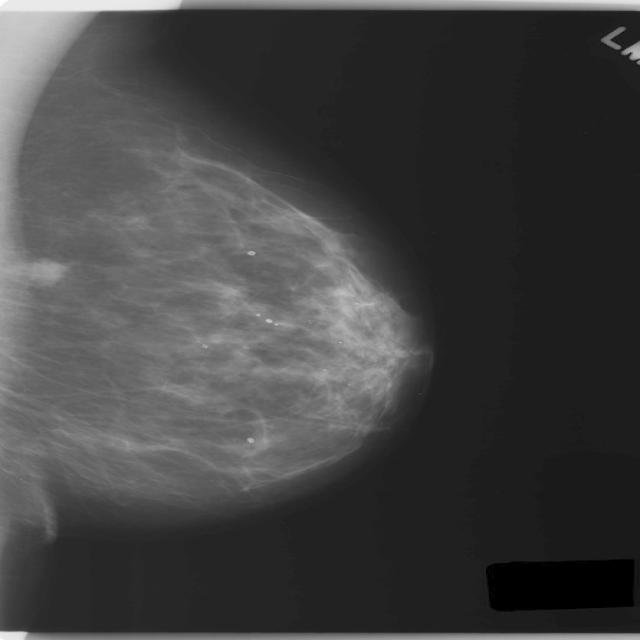tumour: (6, 258, 66, 288)
